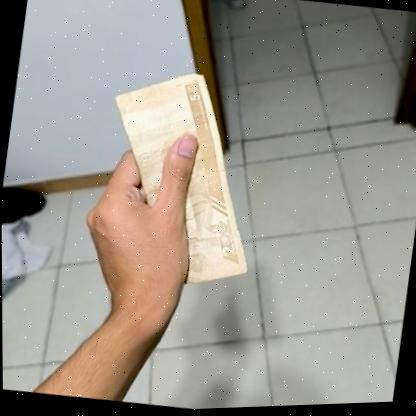five-back-vef: (89, 61, 273, 298)
